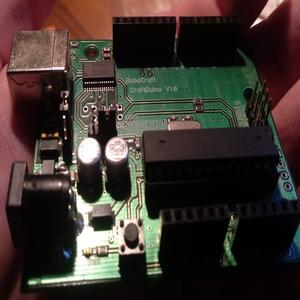duino: (7, 12, 295, 284)
